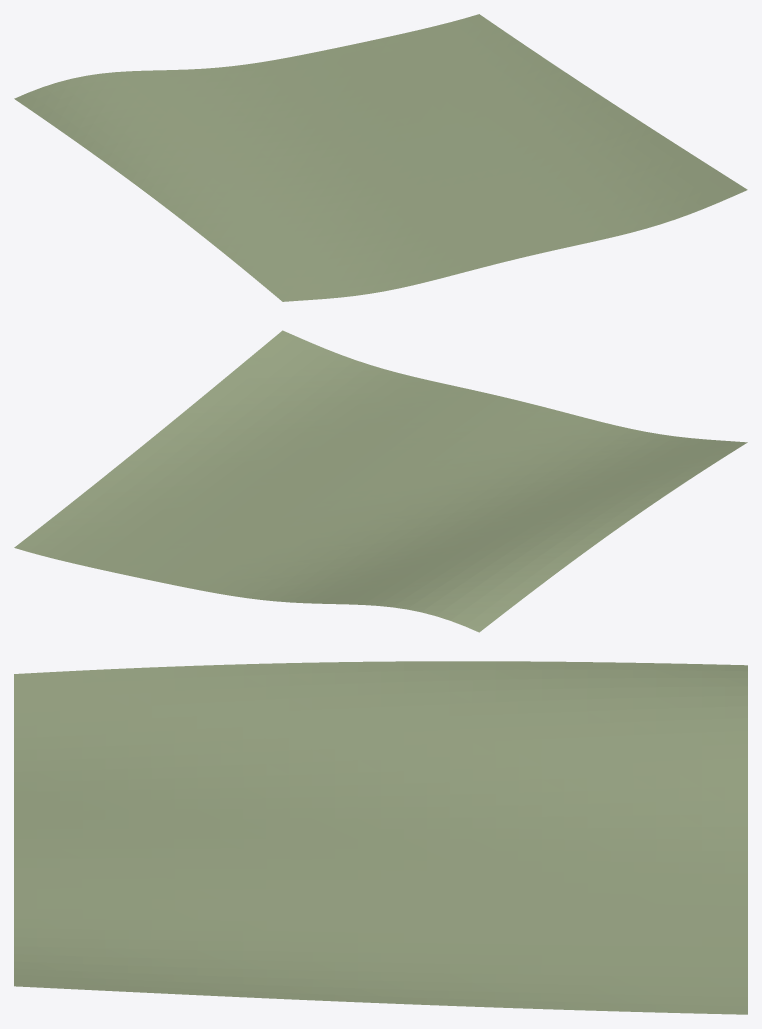
Rendered from desert-5-5.glb.
3 renders of one model, top to bottom at view 1: azimuth 30°, elevation 25°; view 2: azimuth 150°, elevation 25°; view 3: azimuth 270°, elevation 25°, orthographic. The views are drawn at different scales.
Parts seen in each view (by area): view 1: desert-5-5; view 2: desert-5-5; view 3: desert-5-5.
Part boxes in pixels (box(x1,y1,x2,y2)): desert-5-5: box(14, 14, 747, 301); desert-5-5: box(14, 330, 747, 632); desert-5-5: box(14, 661, 747, 1014).
Size of the model in its own units: 512 by 37.92 by 512.
